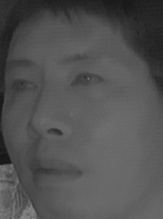eye: (68, 69, 105, 95), (6, 76, 39, 95)
mouth: (25, 152, 85, 189)
